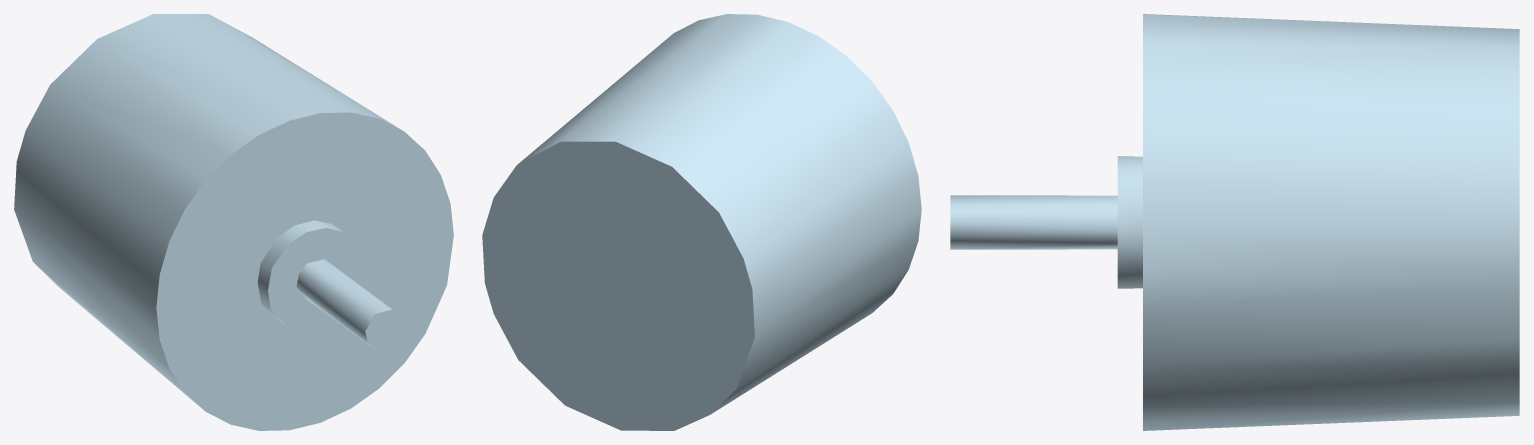
Rendered from eon.fbx.
The picture shows the model from 3 angles, left to right: view 1: azimuth 30°, elevation 25°; view 2: azimuth 150°, elevation 25°; view 3: azimuth 270°, elevation 25°; orthographic projection. The views are drawn at different scales.
Visible parts, largest first — view 1: Part 1; view 2: Part 1; view 3: Part 1.
Part boxes in pixels (<box>): Part 1: <box>14,14,453,430</box>; Part 1: <box>482,14,921,430</box>; Part 1: <box>950,14,1519,430</box>.
Size of the model in its own units: 6.35 by 6.32 by 8.64.
